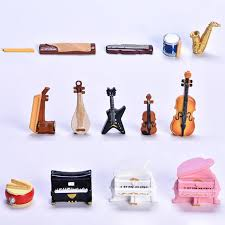Piano: (41, 161, 113, 203)
Saxophone: (186, 22, 223, 72)
Violin: (132, 83, 177, 162)
